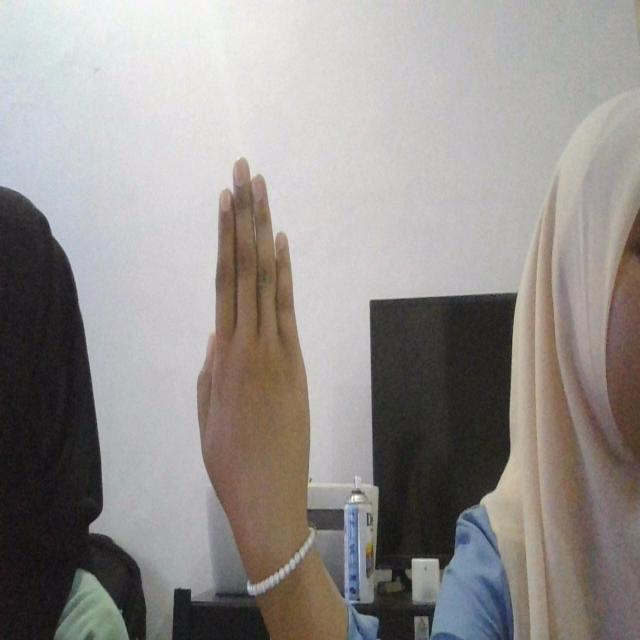hand: (191, 151, 323, 562)
